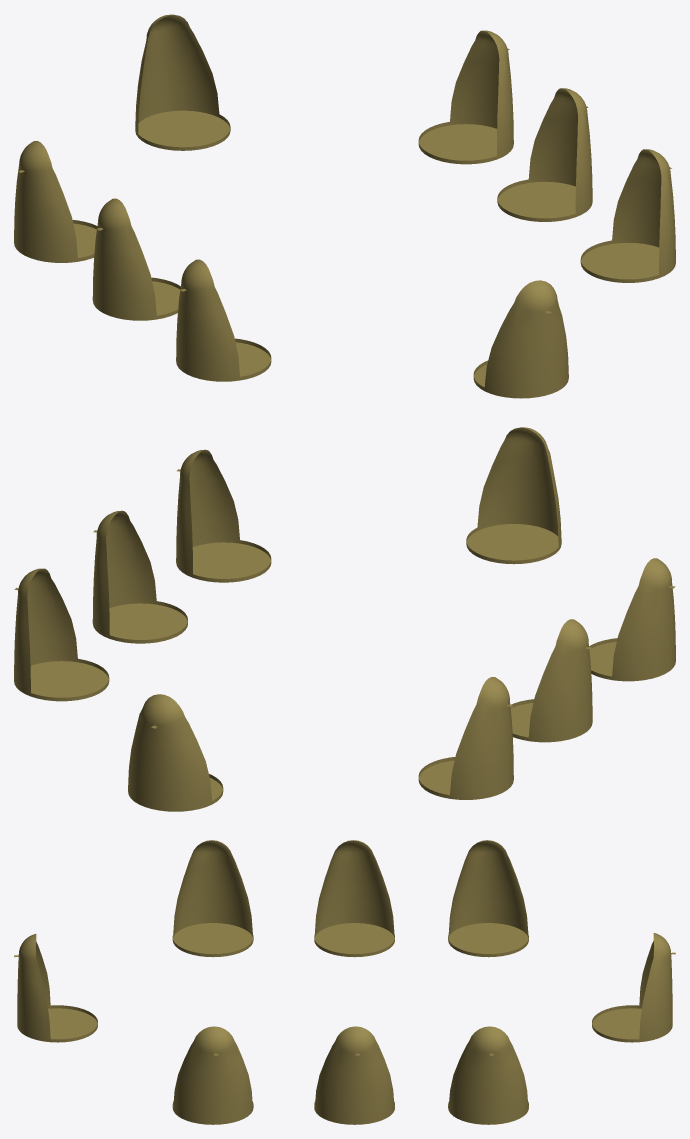
Rendered from SillaInterior.fbx.
3 renders of one model, top to bottom at view 1: azimuth 30°, elevation 25°; view 2: azimuth 150°, elevation 25°; view 3: azimuth 270°, elevation 25°, orthographic. The views are drawn at different scales.
Parts seen in each view (by area): view 1: SillaInterior; view 2: SillaInterior; view 3: SillaInterior.
Part boxes in pixels (x1,y1,x2,y2): SillaInterior: [14, 14, 675, 398]; SillaInterior: [14, 427, 675, 811]; SillaInterior: [14, 840, 675, 1124].
Bounding box in the file's own units: 625 × 129 × 855.
